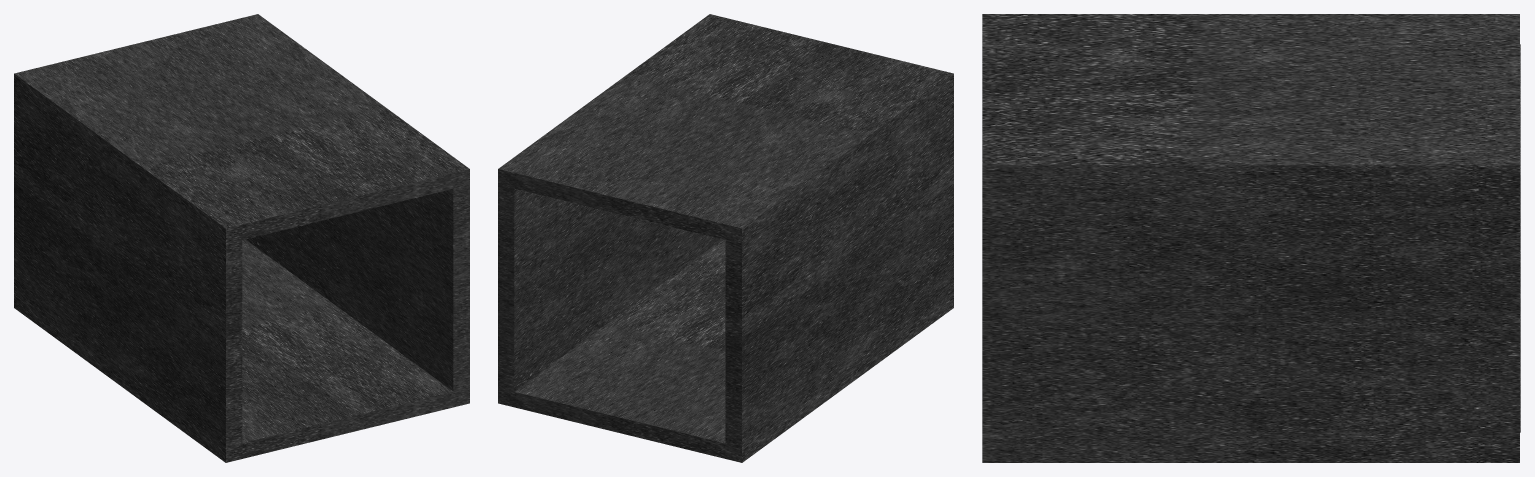
The model's file is N1Tuberia.fbx.
The picture shows the model from 3 angles, left to right: view 1: azimuth 30°, elevation 25°; view 2: azimuth 150°, elevation 25°; view 3: azimuth 270°, elevation 25°; orthographic projection. The views are drawn at different scales.
Parts seen in each view (by area): view 1: Cube; view 2: Cube; view 3: Cube.
Boxes of the visible parts, <box> form: Cube: <box>14,14,469,462</box>; Cube: <box>498,14,953,462</box>; Cube: <box>982,14,1520,462</box>.
Size of the model in its own units: 474 by 435 by 713.
Materials: 1 (1 with a texture image).
